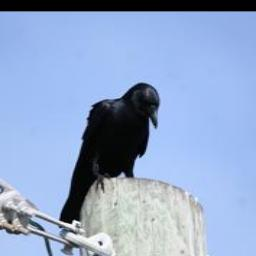Crow: (59, 82, 162, 230)
